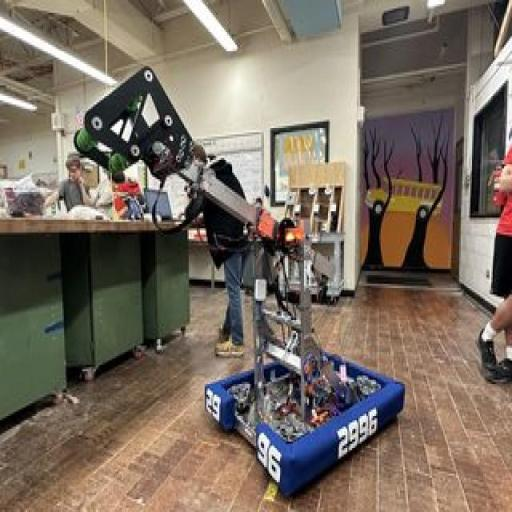robot: (54, 61, 466, 506)
